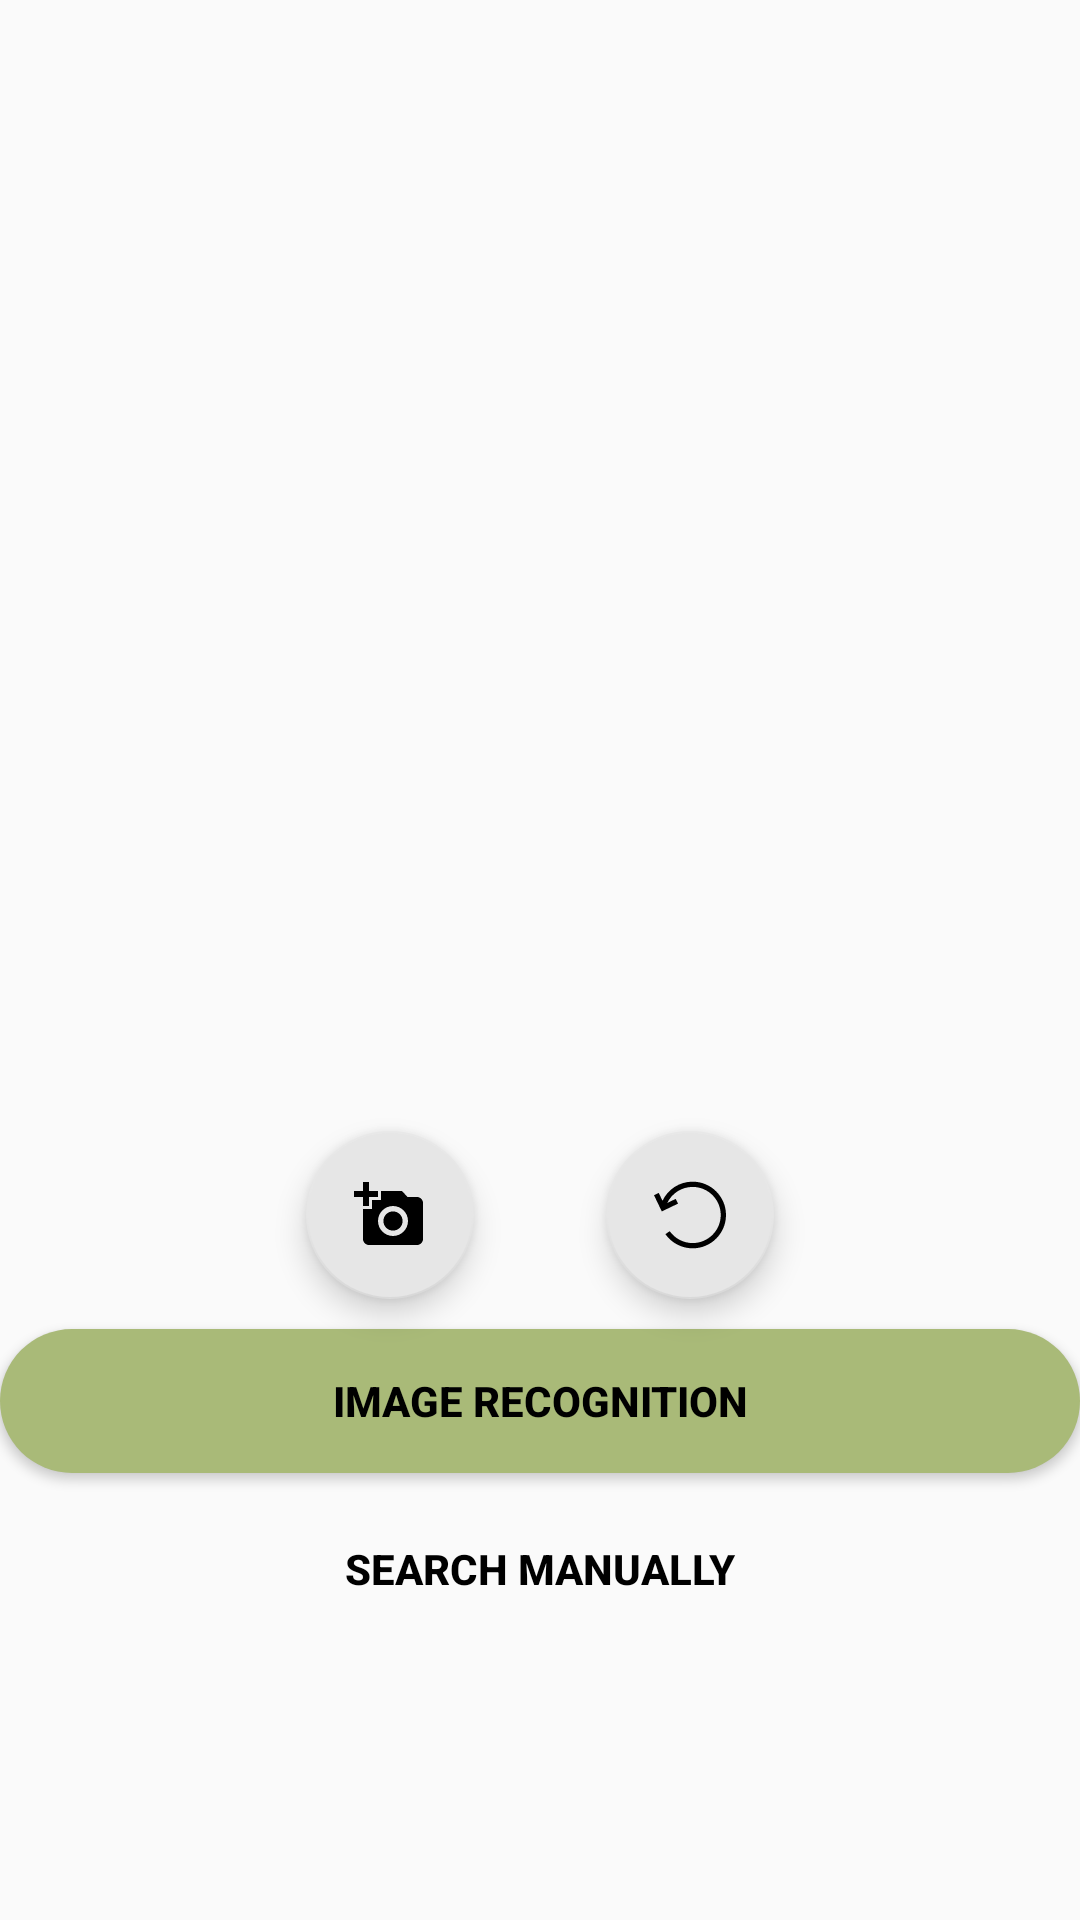

Icons on this 1080 × 1920 Android screen, each with its box as (x1, y1, x2, y2):
add photo: (306, 1131, 474, 1299)
rotate: (606, 1131, 774, 1299)
